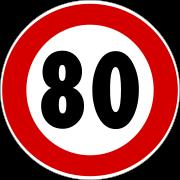Speed Limit -80-: (23, 30, 156, 150)
